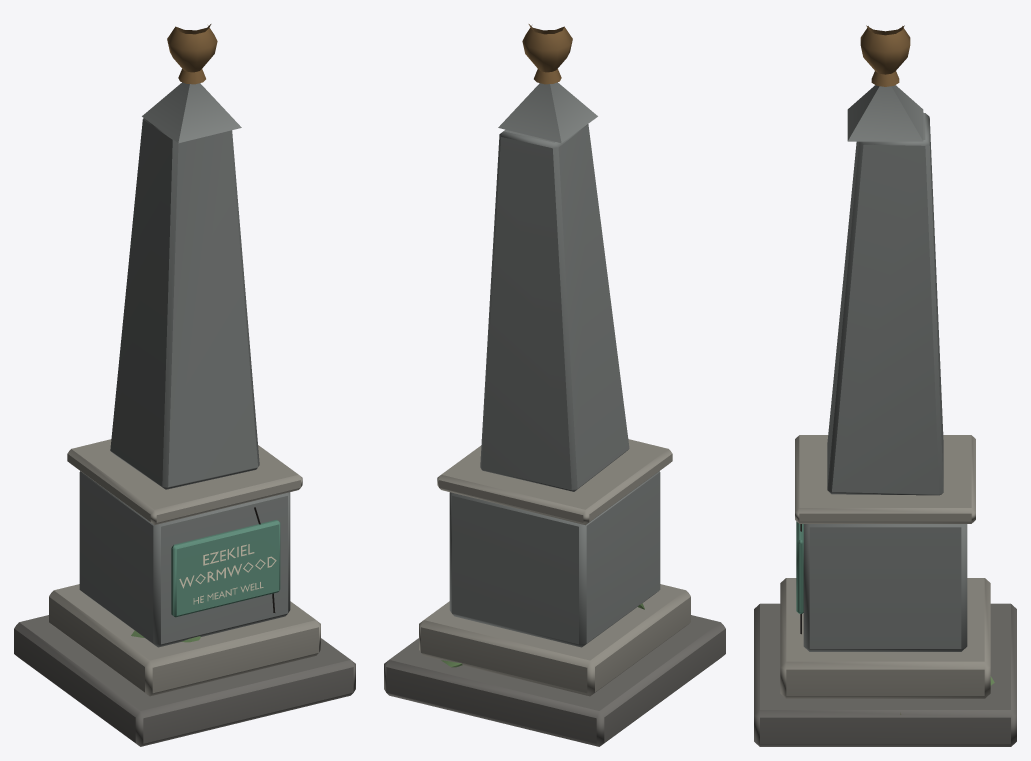
File: obelisk_founder.glb
3 views of the same model, side by side, from view 1: azimuth 30°, elevation 25°; view 2: azimuth 150°, elevation 25°; view 3: azimuth 270°, elevation 25° (orthographic). The views are drawn at different scales.
Visible parts, largest first — view 1: obelisk_founder, sign; view 2: obelisk_founder; view 3: obelisk_founder.
Part boxes in pixels (x1,y1,x2,y2): obelisk_founder: (14, 24, 355, 746); sign: (179, 544, 276, 604); obelisk_founder: (384, 24, 725, 746); obelisk_founder: (754, 25, 1016, 746).
Bounding box in the file's own units: 0.9 × 2.57 × 0.9.
